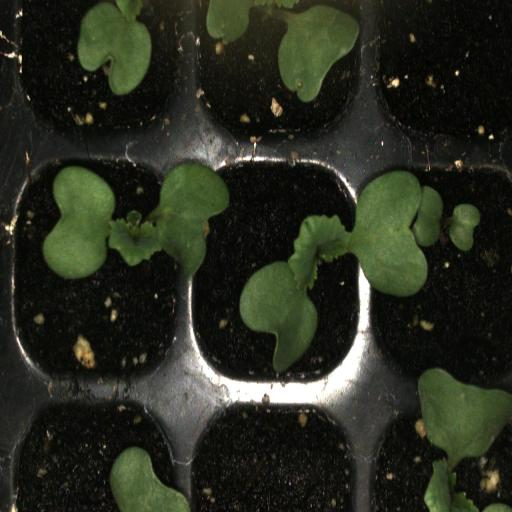Folha: (77, 0, 152, 96), (110, 447, 191, 512)
Germinacao: (187, 144, 373, 398), (8, 142, 185, 394), (373, 155, 512, 400), (190, 0, 374, 143), (365, 401, 512, 512)
